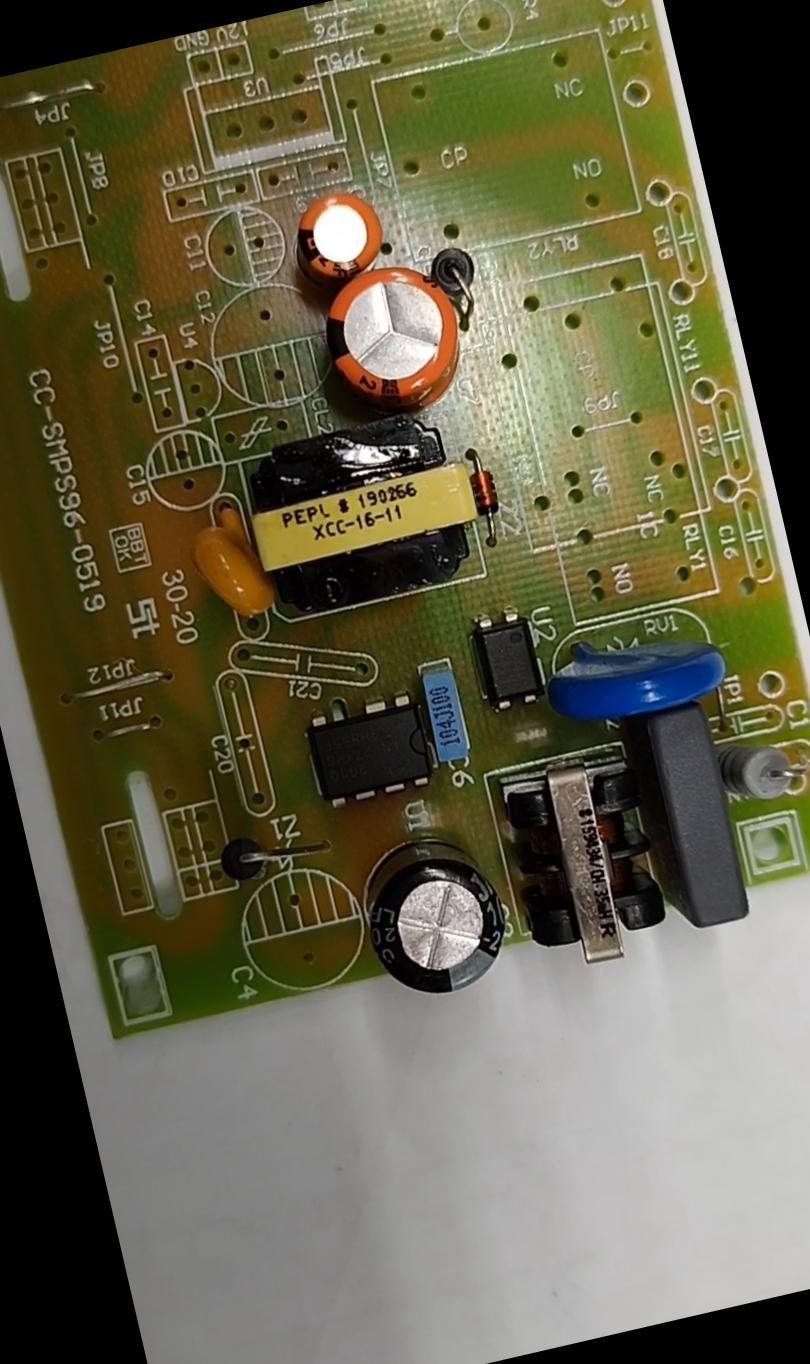Cap1: (314, 258, 468, 417)
Cap2: (294, 180, 390, 282)
Cap3: (351, 821, 511, 1008)
MOSFET: (310, 690, 434, 807)
Mov: (538, 614, 732, 734)
Resistor: (716, 725, 804, 812)
Transformer: (228, 400, 492, 622), (491, 747, 678, 978)
